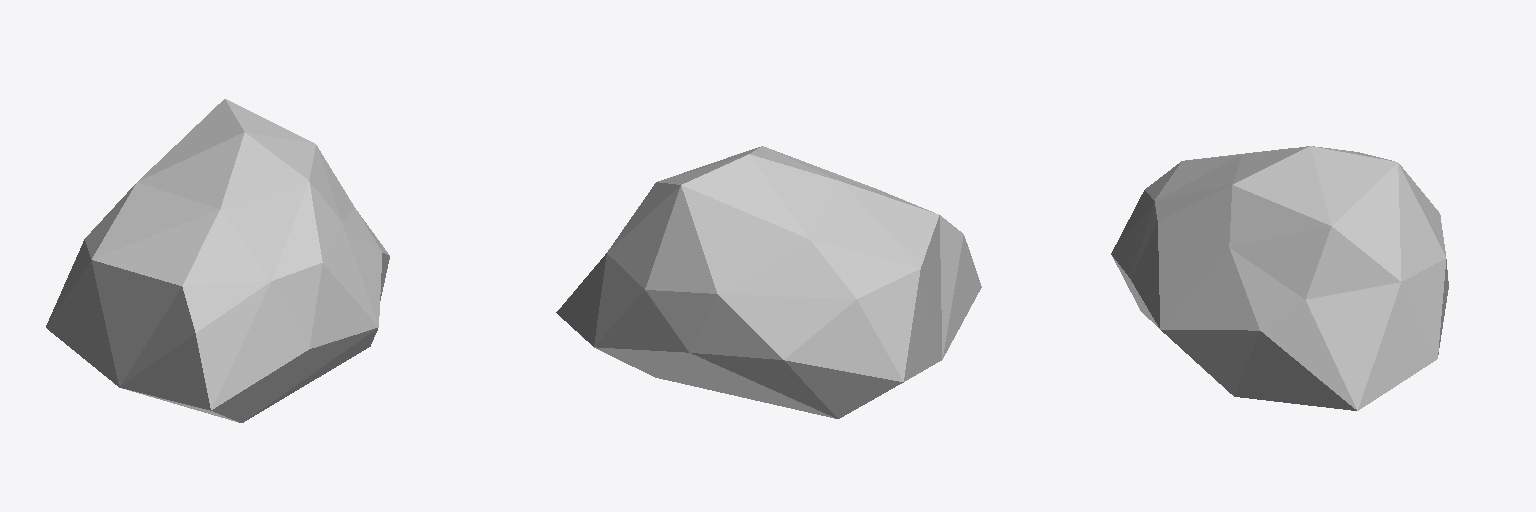
File: stone02.obj
3 renders of one model, left to right at view 1: azimuth 30°, elevation 25°; view 2: azimuth 150°, elevation 25°; view 3: azimuth 270°, elevation 25°, orthographic.
Parts seen in each view (by area): view 1: Icosphere; view 2: Icosphere; view 3: Icosphere.
Part boxes in pixels (x1,y1,x2,y2): Icosphere: (46, 99, 389, 422); Icosphere: (556, 146, 981, 418); Icosphere: (1111, 146, 1448, 410).
Size of the model in its own units: 0.7224 by 0.4463 by 0.6107.